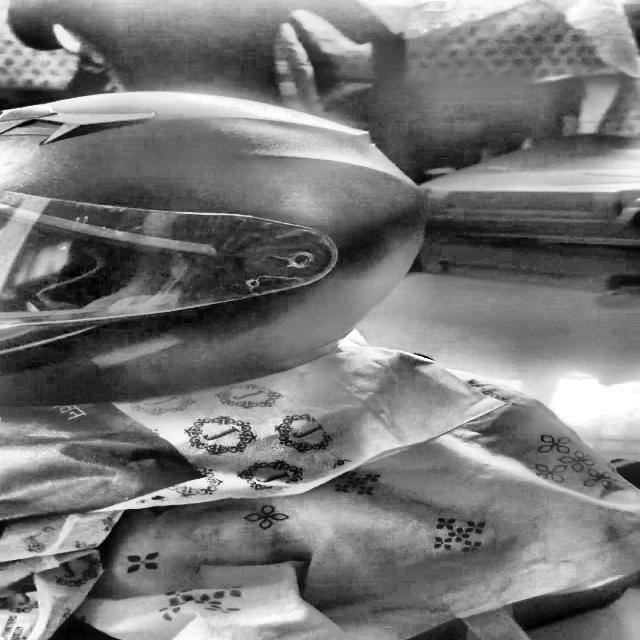Helmet: (0, 86, 431, 405)
